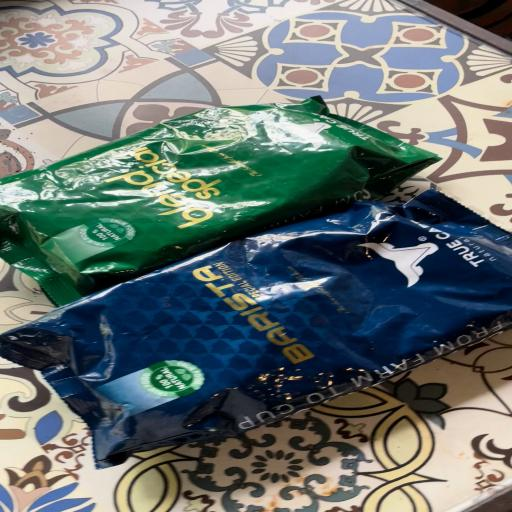cafe_hat: (0, 190, 512, 467)
cafe_xay: (0, 96, 437, 306)
